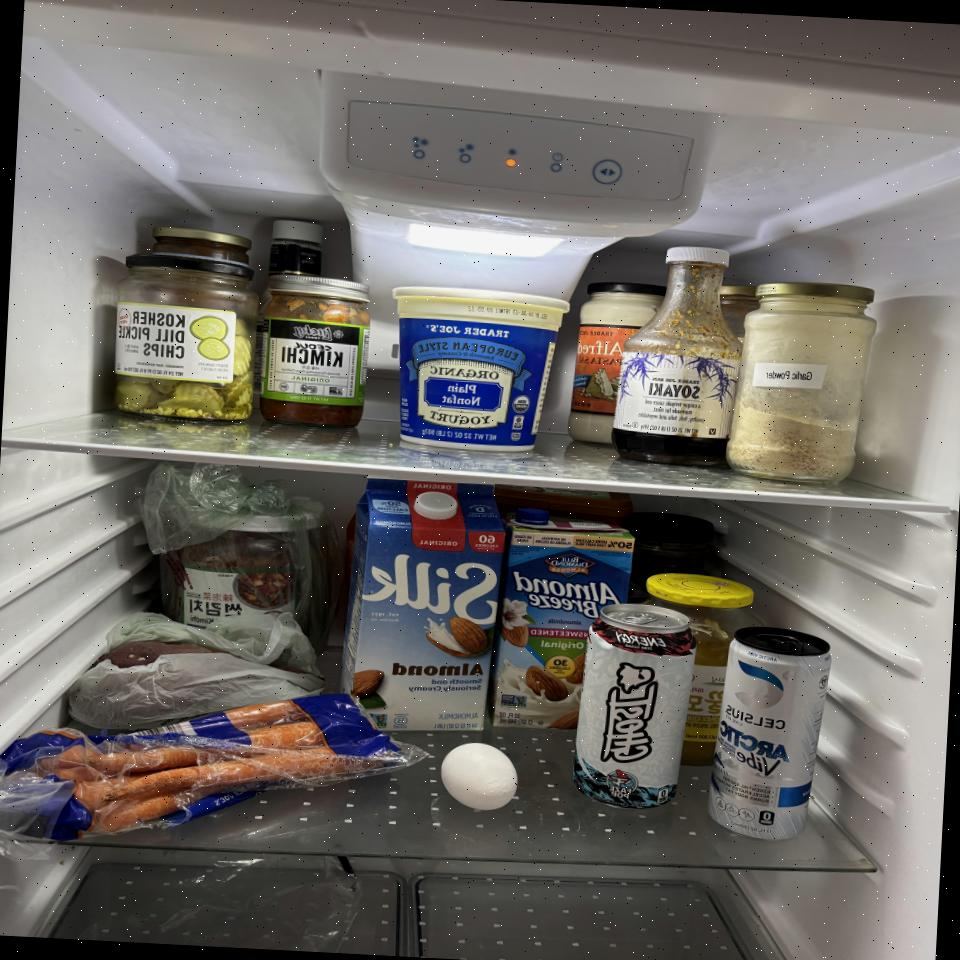Huevos: (438, 740, 524, 814)
Leche: (338, 478, 504, 733), (494, 508, 634, 734)
Yogur: (382, 284, 570, 456)
Zanahoria: (0, 676, 406, 860)
